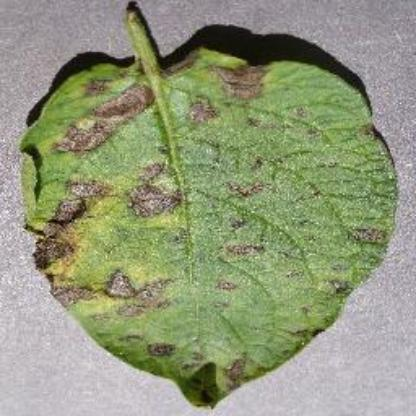Early-Blight: (18, 0, 412, 416)
